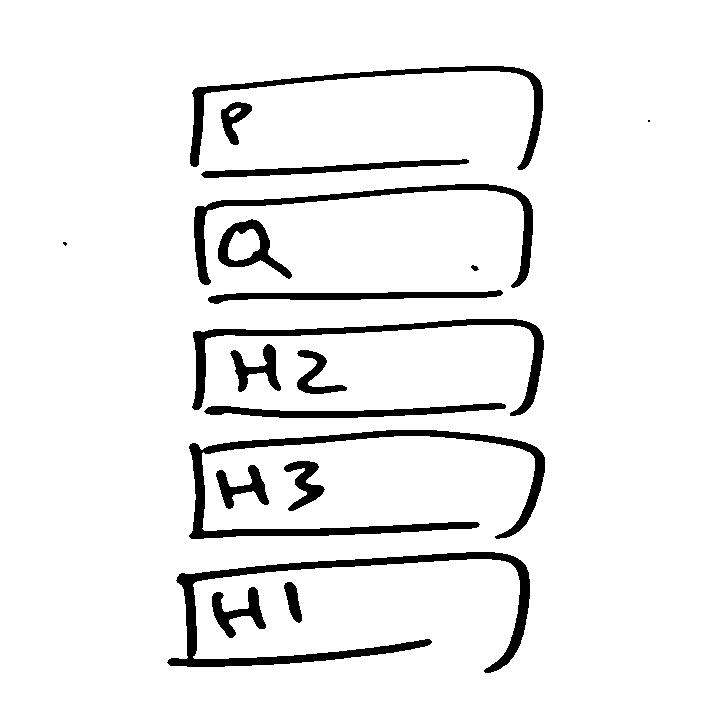heading1: (166, 547, 535, 677)
heading2: (187, 316, 547, 420)
heading3: (186, 426, 547, 541)
paragraph: (179, 62, 545, 181)
search bar: (191, 181, 537, 308)
